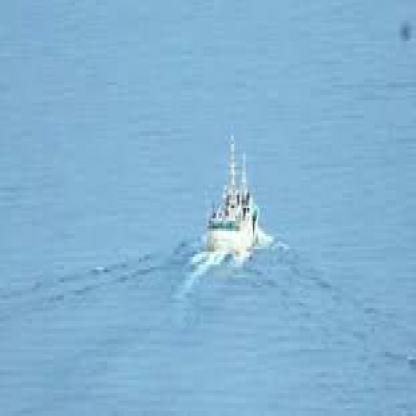fish-b: (197, 126, 266, 259)
